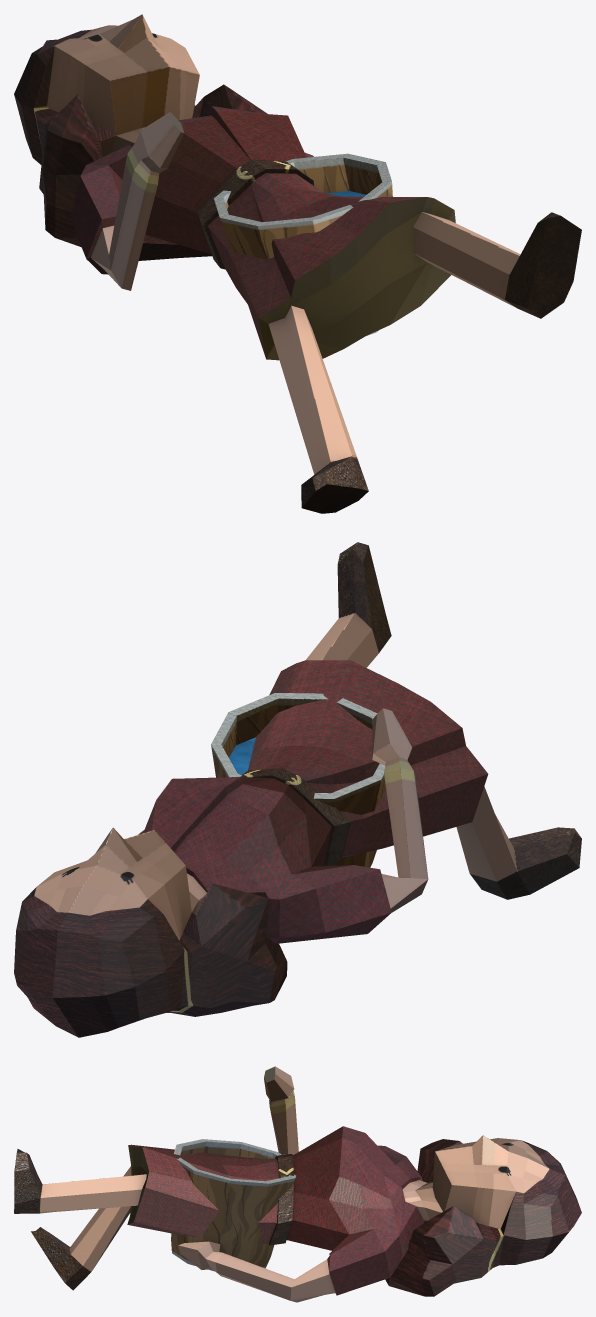
The model's file is Walk_Aldeana_20.obj.
The picture shows the model from 3 angles, top to bottom: view 1: azimuth 30°, elevation 25°; view 2: azimuth 150°, elevation 25°; view 3: azimuth 270°, elevation 25°; orthographic projection. The views are drawn at different scales.
Parts seen in each view (by area): view 1: Aldeana.001; view 2: Aldeana.001; view 3: Aldeana.001.
Part boxes in pixels (x1=…): Aldeana.001: x1=14, y1=14, x2=581, y2=513; Aldeana.001: x1=14, y1=542, x2=581, y2=1037; Aldeana.001: x1=14, y1=1066, x2=581, y2=1302.
Size of the model in its own units: 0.9665 by 0.9894 by 2.4.
